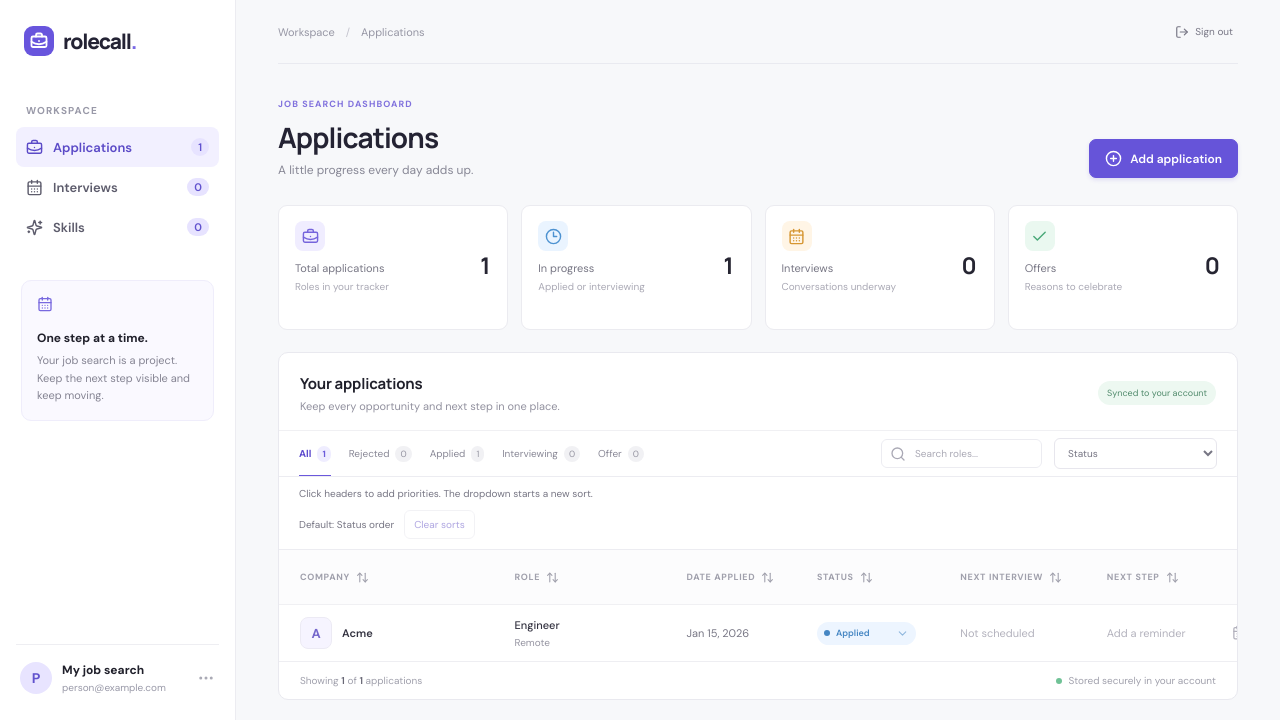
it: application persistence › creates an owned application, trims names, and displays the persisted record
Click the button "Add application" at (1164, 158), box x1=1089 y1=139 x2=1238 y2=178
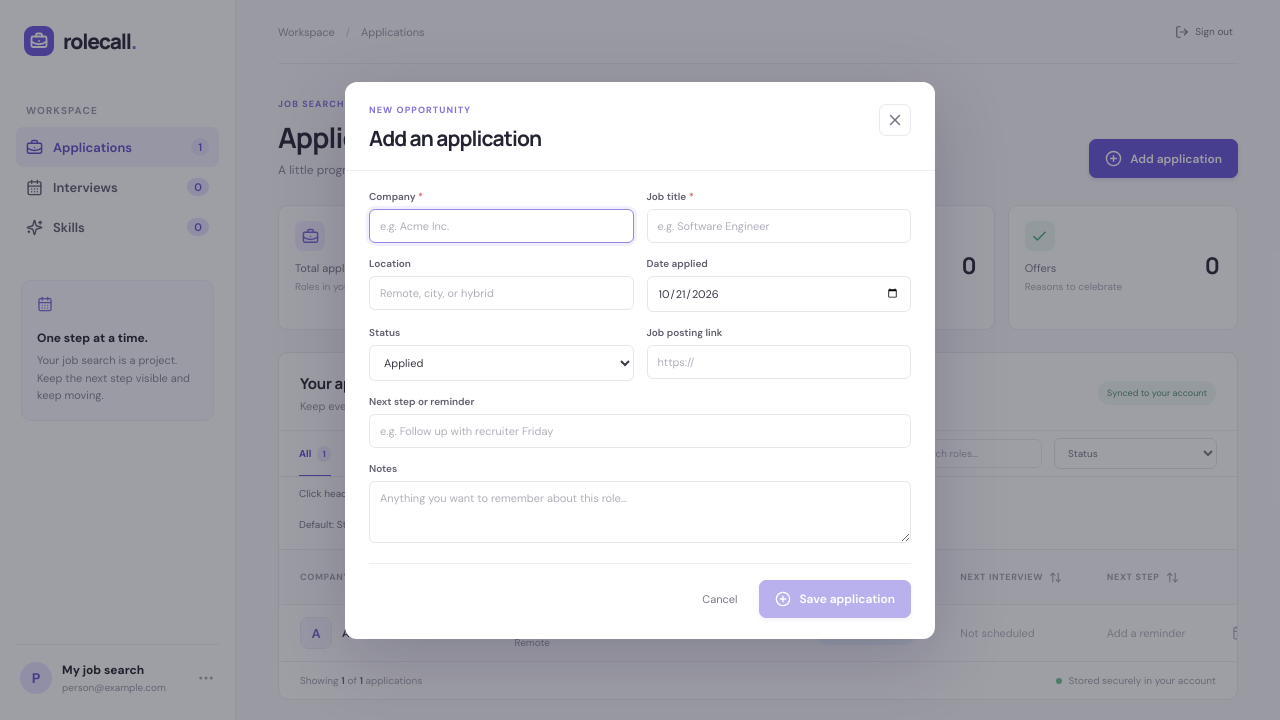
Type "  New Co  " into the field labelled "Company *" at (501, 226), box x1=369 y1=208 x2=634 y2=242
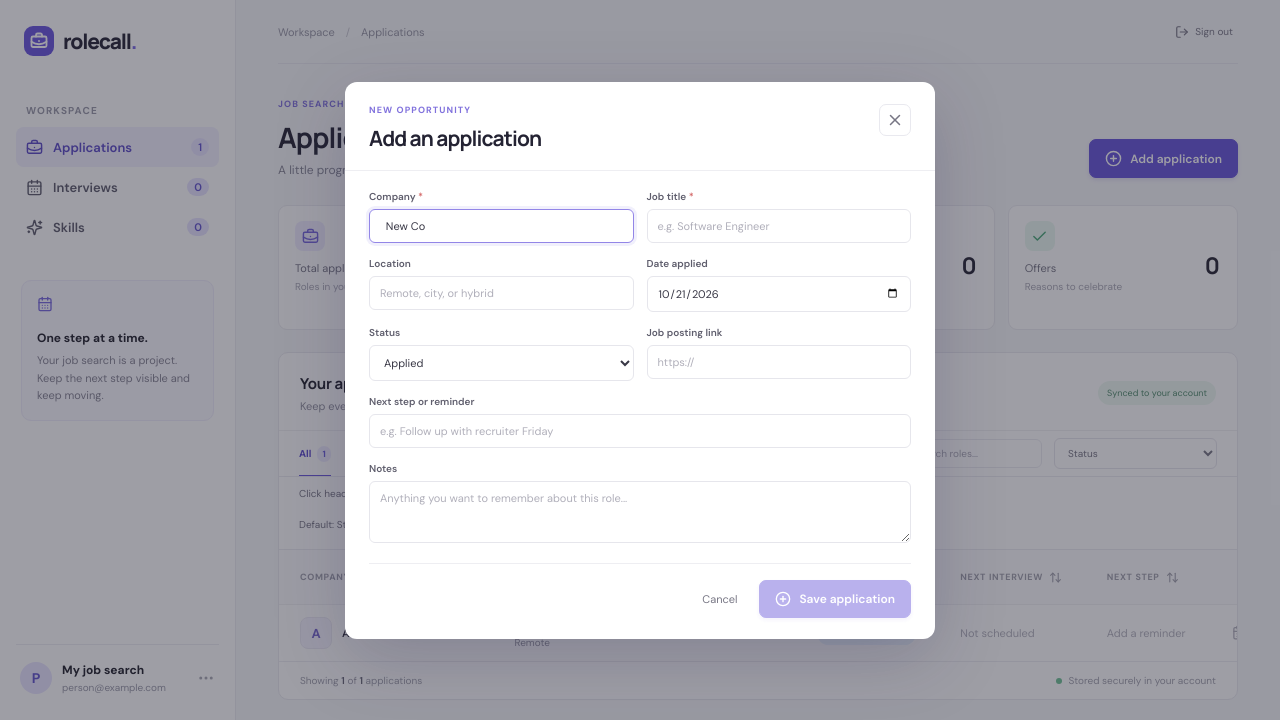
Type "  Developer  " into the field labelled "Job title *" at (779, 226), box x1=646 y1=208 x2=911 y2=242
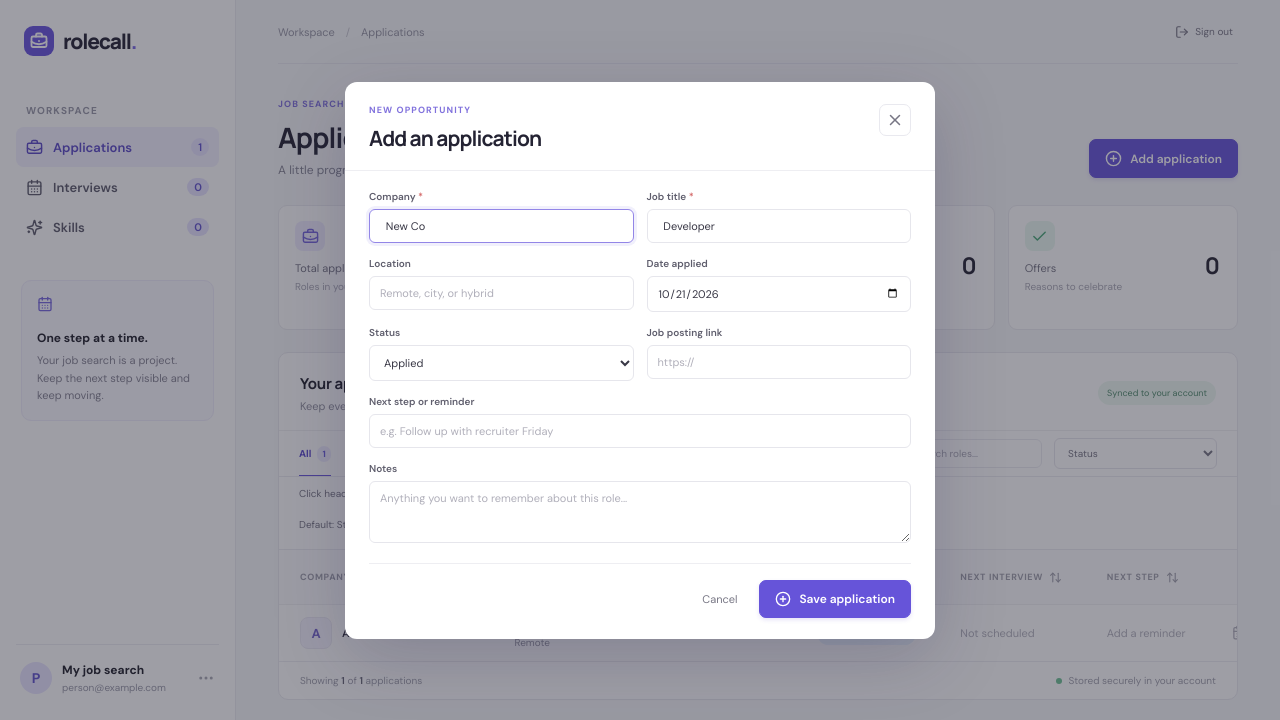
Click the button "Save application" at (835, 598), box x1=760 y1=580 x2=911 y2=618
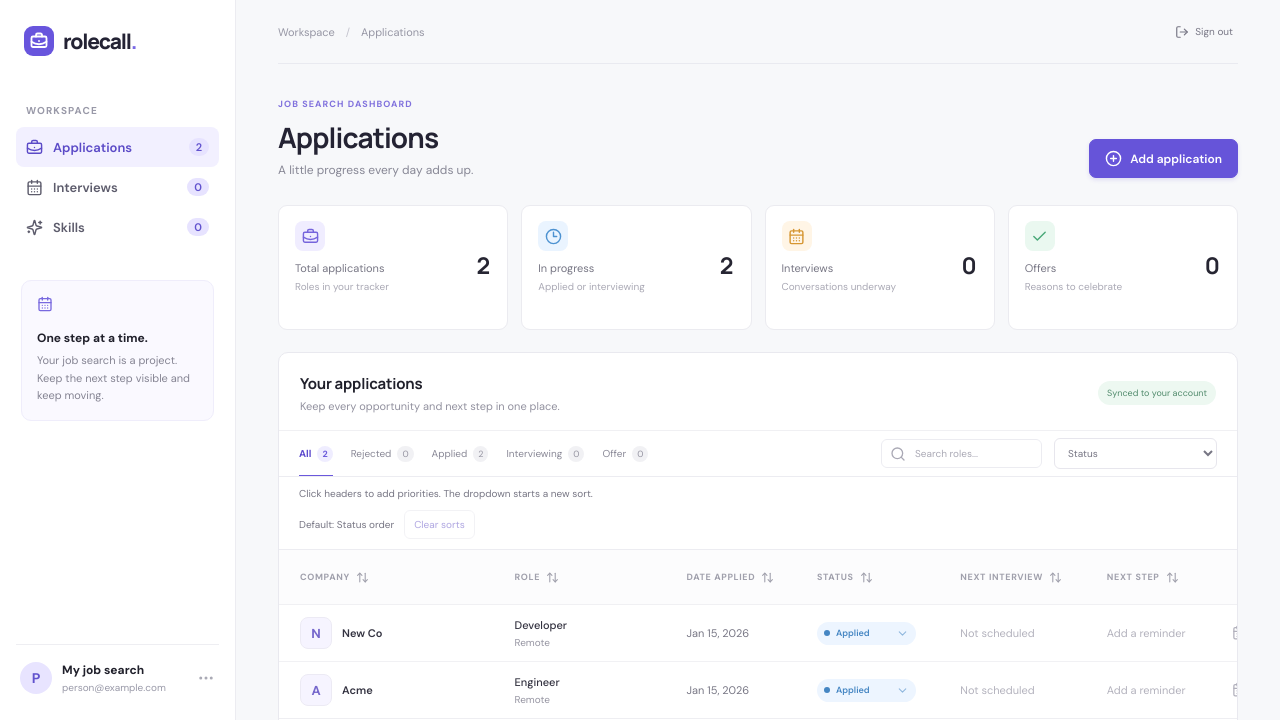
Result: the dialog is gone
